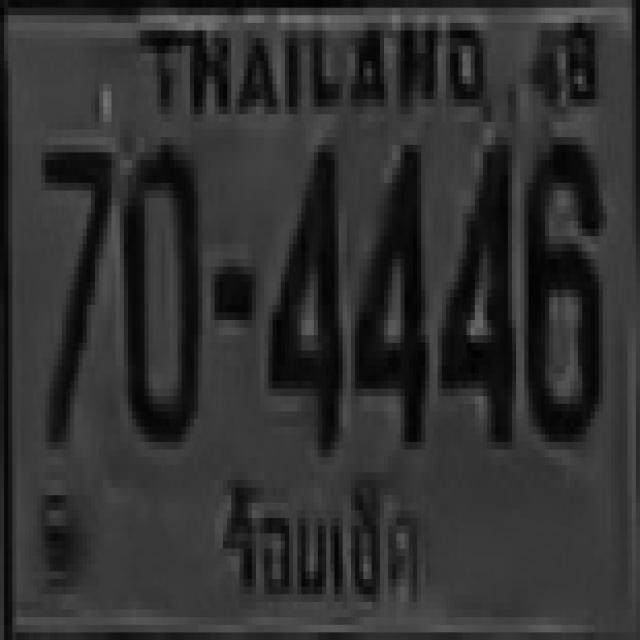0: (120, 137, 198, 434)
4: (264, 141, 339, 446), (438, 137, 512, 442), (351, 137, 425, 442)
6: (520, 130, 599, 434)
7: (40, 141, 110, 438)
RoiEt: (208, 461, 428, 608)
